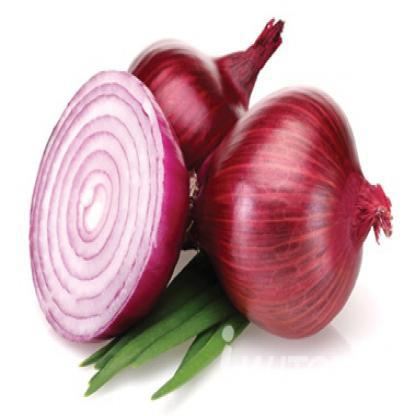onion: (4, 86, 204, 320), (214, 84, 374, 306)
